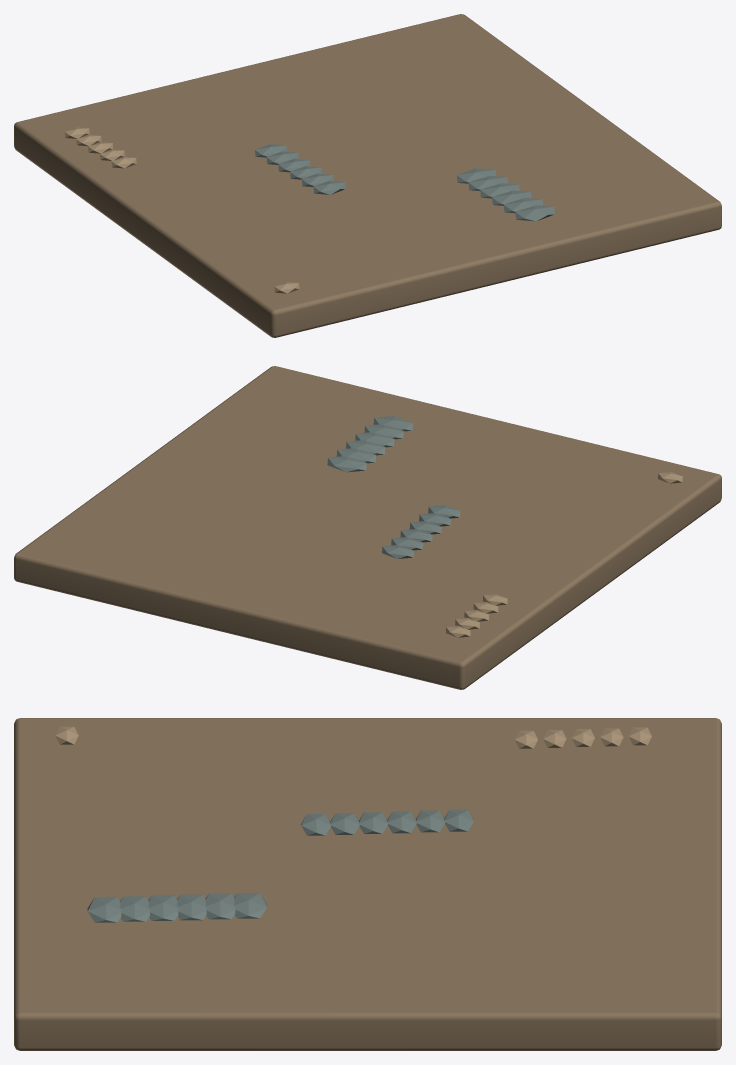
File: SM_Terrain_Dirt_4m.fbx
3 renders of one model, top to bottom at view 1: azimuth 30°, elevation 25°; view 2: azimuth 150°, elevation 25°; view 3: azimuth 270°, elevation 25°, orthographic. The views are drawn at different scales.
Visible parts, largest first — view 1: SM_Terrain_Dirt_4m; view 2: SM_Terrain_Dirt_4m; view 3: SM_Terrain_Dirt_4m.
Boxes of the visible parts, x1=… form: SM_Terrain_Dirt_4m: x1=14, y1=14, x2=721, y2=337; SM_Terrain_Dirt_4m: x1=14, y1=366, x2=721, y2=689; SM_Terrain_Dirt_4m: x1=14, y1=718, x2=721, y2=1050.
Bounding box in the file's own units: 4 × 0.29 × 4.
